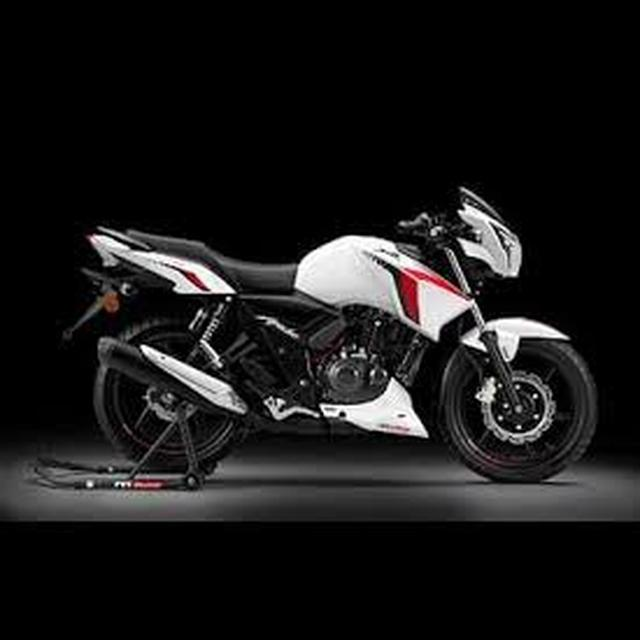motorcycle: (55, 167, 604, 481)
